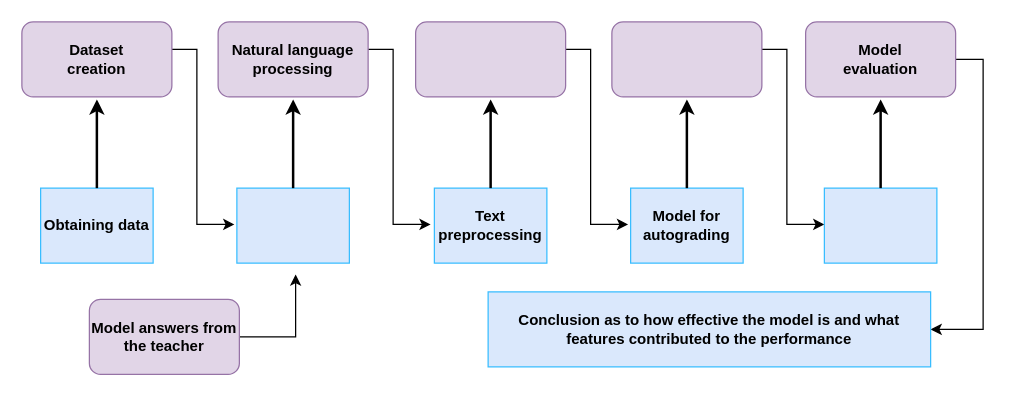
Some shapes in this 1015 by 396 pixel diagram are drawn without their labels. The centre of each missing label's shape, as x and y in pixels:
"Autograding" belongs at point (686, 59).
"Dataset" belongs at point (292, 225).
"Model creation" belongs at point (490, 59).
"Prediction of grades" belongs at point (880, 225).
